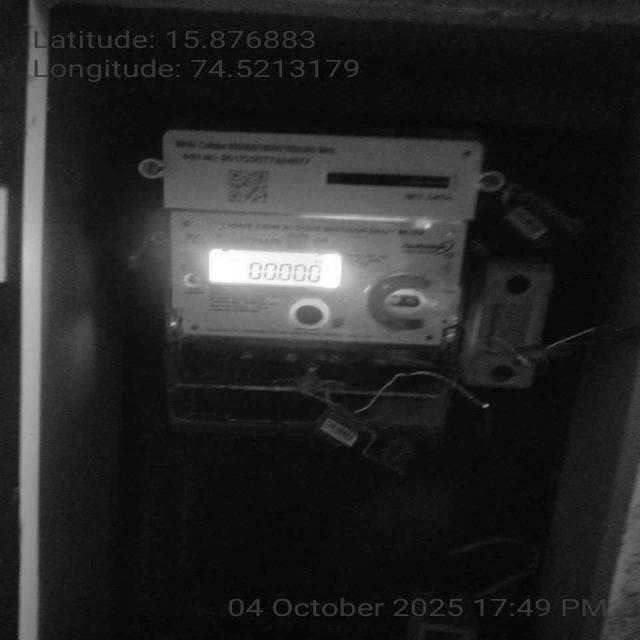meter: (160, 128, 486, 349)
